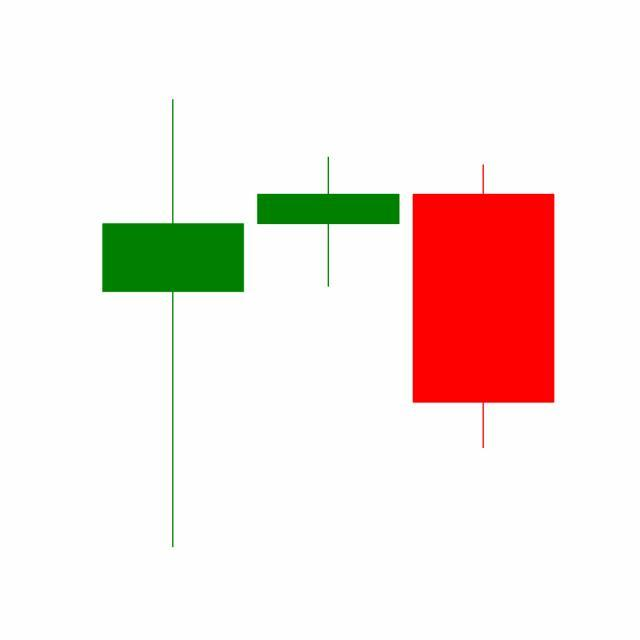Spinning Top: (250, 155, 407, 289)
